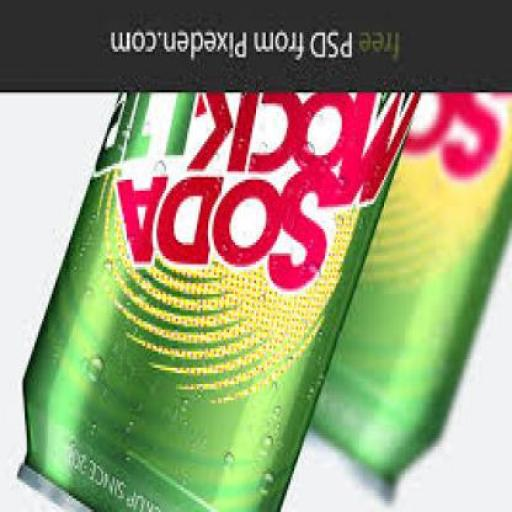metal: (17, 92, 425, 511), (312, 92, 510, 508)
